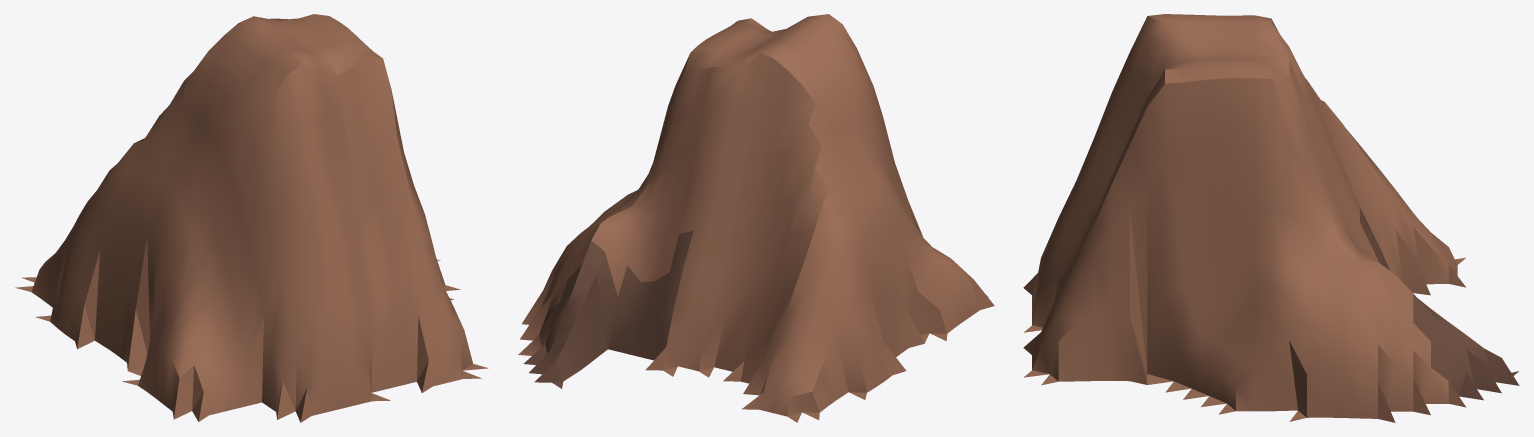
The model's file is fulgoran-ruin-small.glb.
3 renders of one model, left to right at view 1: azimuth 30°, elevation 25°; view 2: azimuth 150°, elevation 25°; view 3: azimuth 270°, elevation 25°, orthographic. The views are drawn at different scales.
Visible parts, largest first — view 1: body; view 2: body; view 3: body.
Boxes of the visible parts, x1,y1,x2,y2 form: body: (15,14,488,422); body: (518,14,994,422); body: (1023,14,1519,422).
Size of the model in its own units: 1.51 by 1.18 by 1.75.
